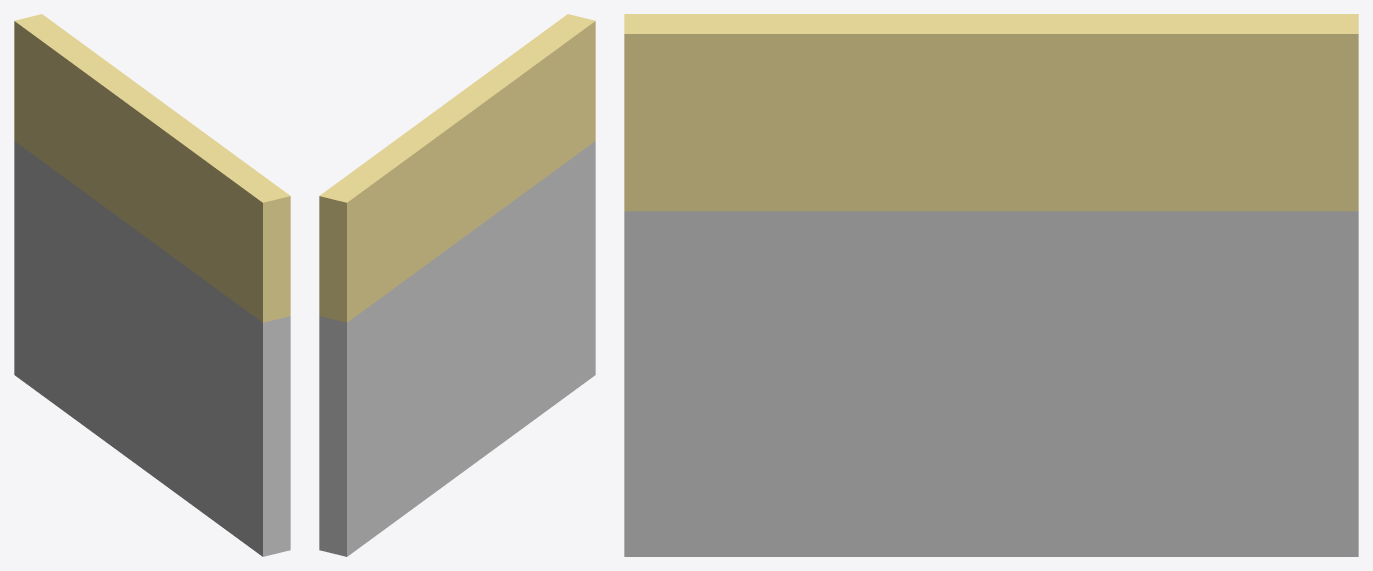
Rendered from Level_3_DividingWall_01.fbx.
3 views of the same model, side by side, from view 1: azimuth 30°, elevation 25°; view 2: azimuth 150°, elevation 25°; view 3: azimuth 270°, elevation 25° (orthographic). The views are drawn at different scales.
Visible parts, largest first — view 1: L3_UpperWalls_1; view 2: L3_UpperWalls_1; view 3: L3_UpperWalls_1.
Boxes of the visible parts, x1=… form: L3_UpperWalls_1: x1=14, y1=14, x2=290, y2=556; L3_UpperWalls_1: x1=319, y1=14, x2=595, y2=556; L3_UpperWalls_1: x1=624, y1=14, x2=1358, y2=556.
Size of the model in its own units: 24.9 by 302 by 385.
